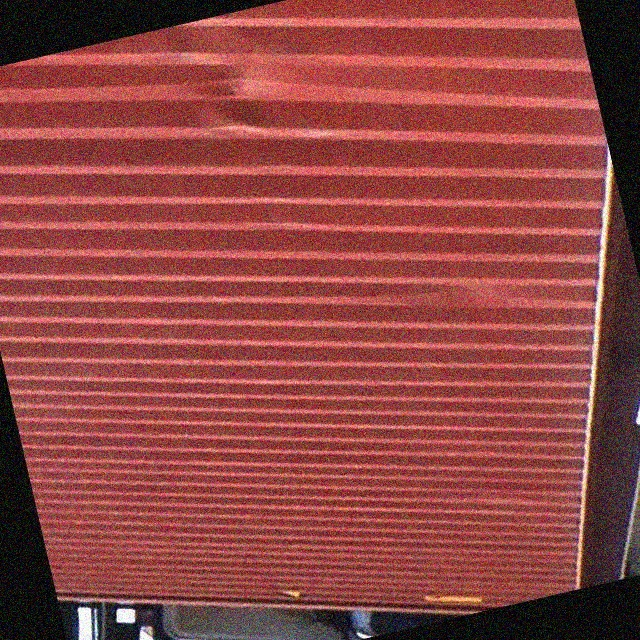Dent: (159, 31, 302, 165), (405, 261, 526, 349)
